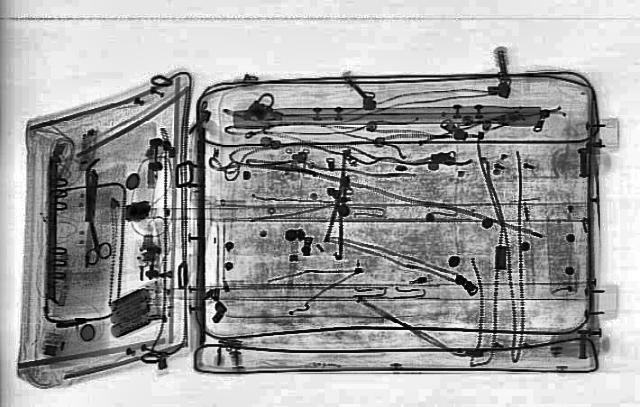Scissors: (73, 216, 114, 264)
